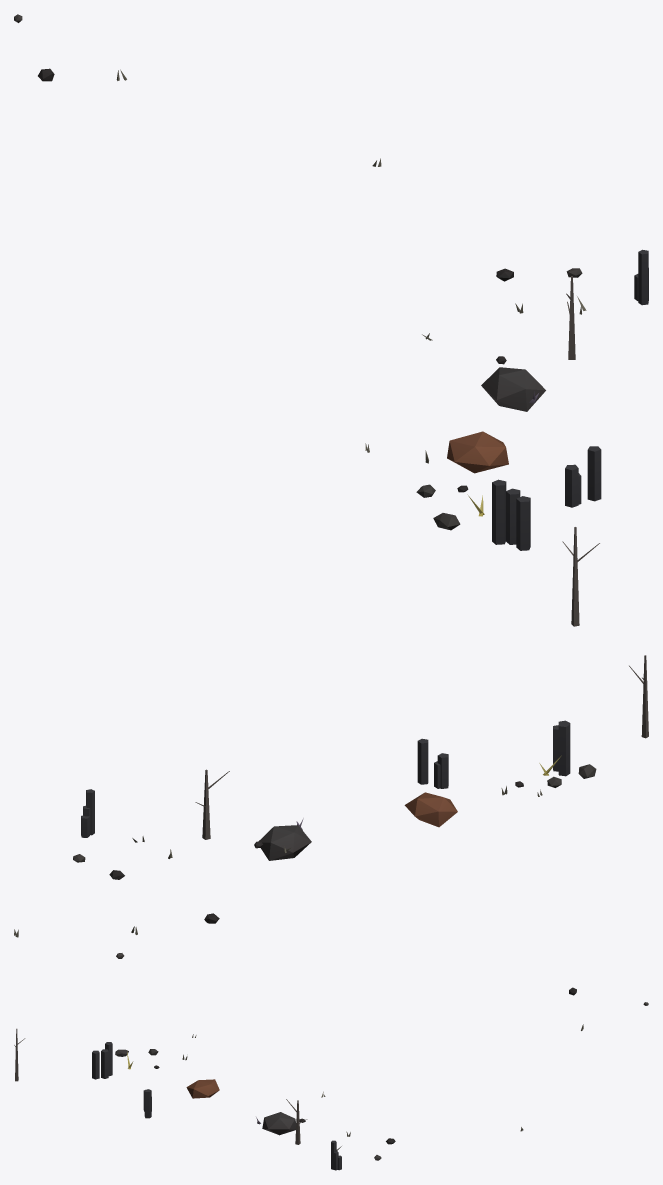
Rendered from ash_land_scatter_c22_29_lod1.glb.
The picture shows the model from 3 angles, top to bottom: view 1: azimuth 30°, elevation 25°; view 2: azimuth 150°, elevation 25°; view 3: azimuth 270°, elevation 25°; orthographic projection. The views are drawn at different scales.
Parts seen in each view (by area): view 1: ash_land_scatter_c22_29_lod1; view 2: ash_land_scatter_c22_29_lod1; view 3: ash_land_scatter_c22_29_lod1.
Boxes of the visible parts, x1=… form: ash_land_scatter_c22_29_lod1: x1=14, y1=14, x2=648, y2=626; ash_land_scatter_c22_29_lod1: x1=14, y1=655, x2=648, y2=958; ash_land_scatter_c22_29_lod1: x1=14, y1=987, x2=648, y2=1170.
Size of the model in its own units: 32.87 by 13.41 by 81.86.
